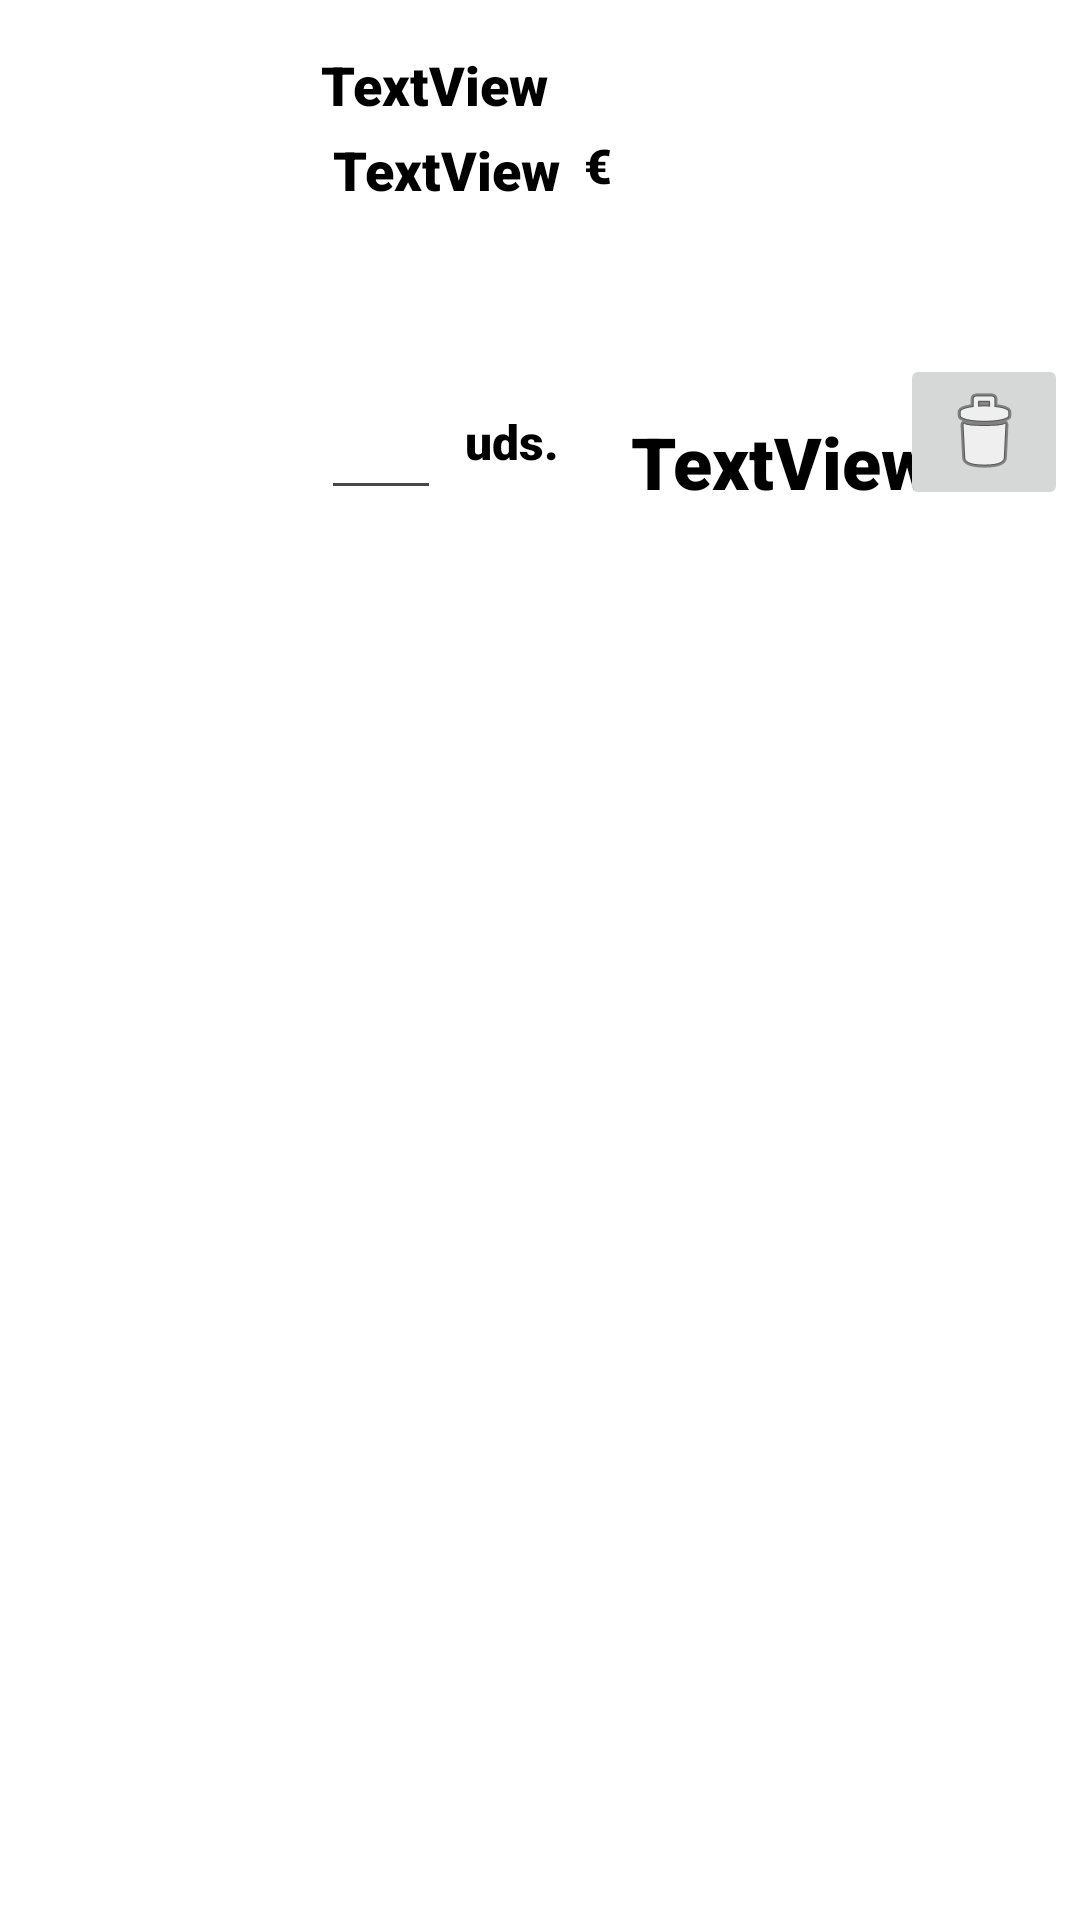

Icons on this 1080px x 1920px Android screen, each with its box as [x1,y1,x2,y2]:
delete: [900,372,1056,492]
